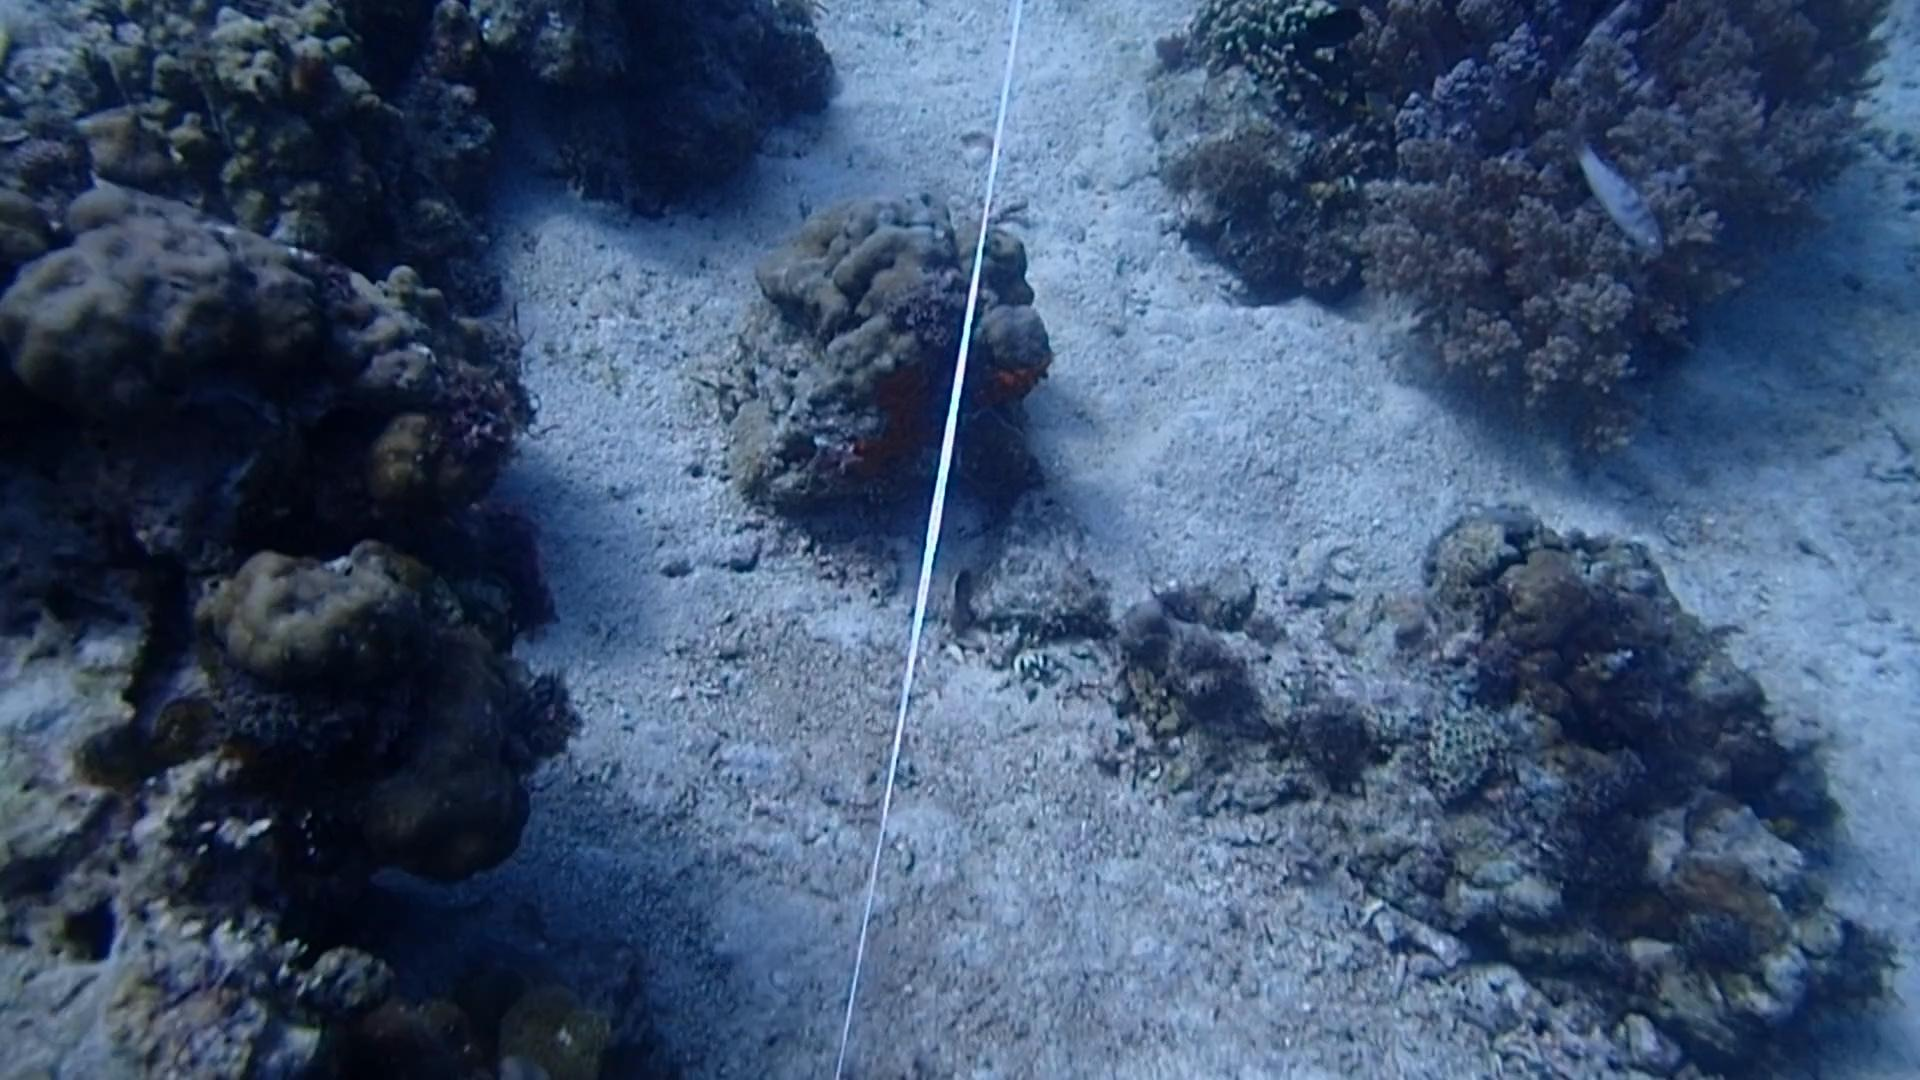Dark Fish: (1284, 5, 1373, 66)
Light Fish w Back Stripes: (1560, 131, 1668, 257)
